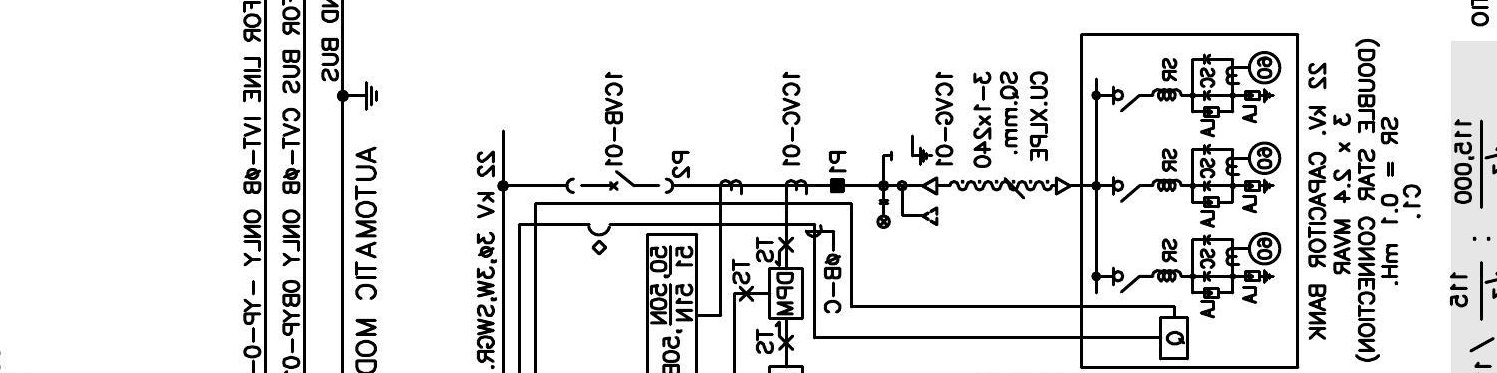22_breaker: (565, 169, 675, 195)
22_cap_bank: (1079, 32, 1300, 370)
22_gs: (889, 133, 934, 167)
22_ll: (875, 198, 892, 230)
DPM: (767, 266, 805, 321)
Q: (1159, 315, 1190, 361)
terminator_single: (1054, 176, 1072, 197)
terminator_w_future: (900, 175, 939, 227)
